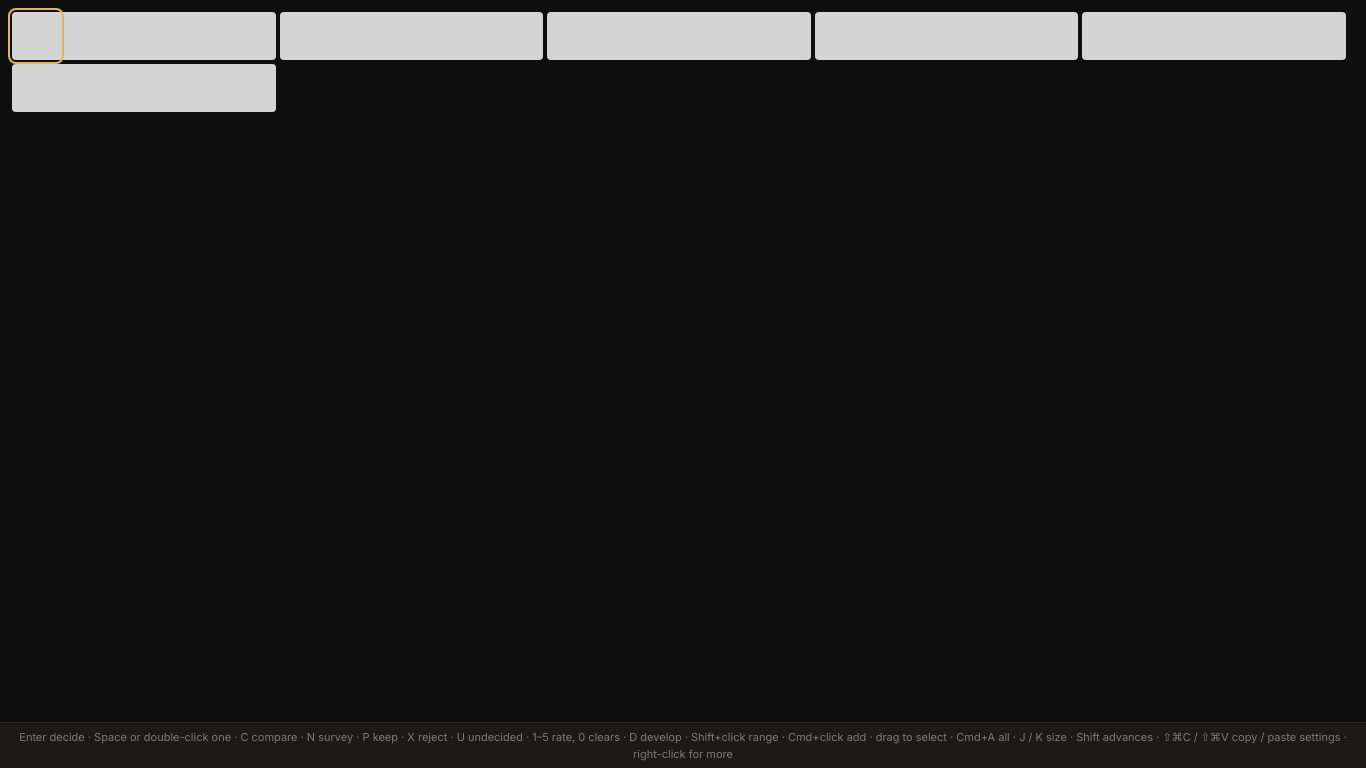
Test: Cull grid skin (plan 47) › marks a selected cell with the check, apart from the focus
Click the option named "b.jpg". click: (411, 36)
box: [280,12,543,60]
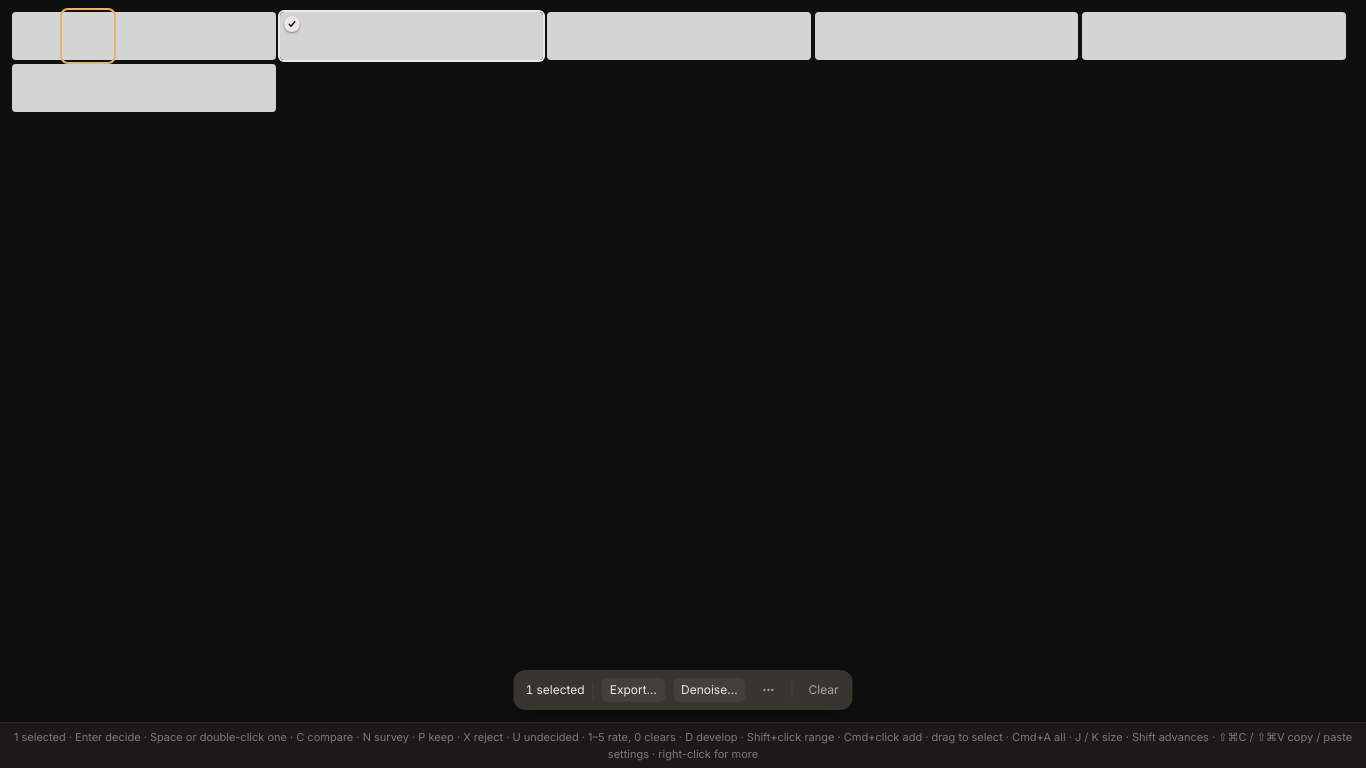
expect the picture named "Selected" is shown: met, box [284,16,300,32]
